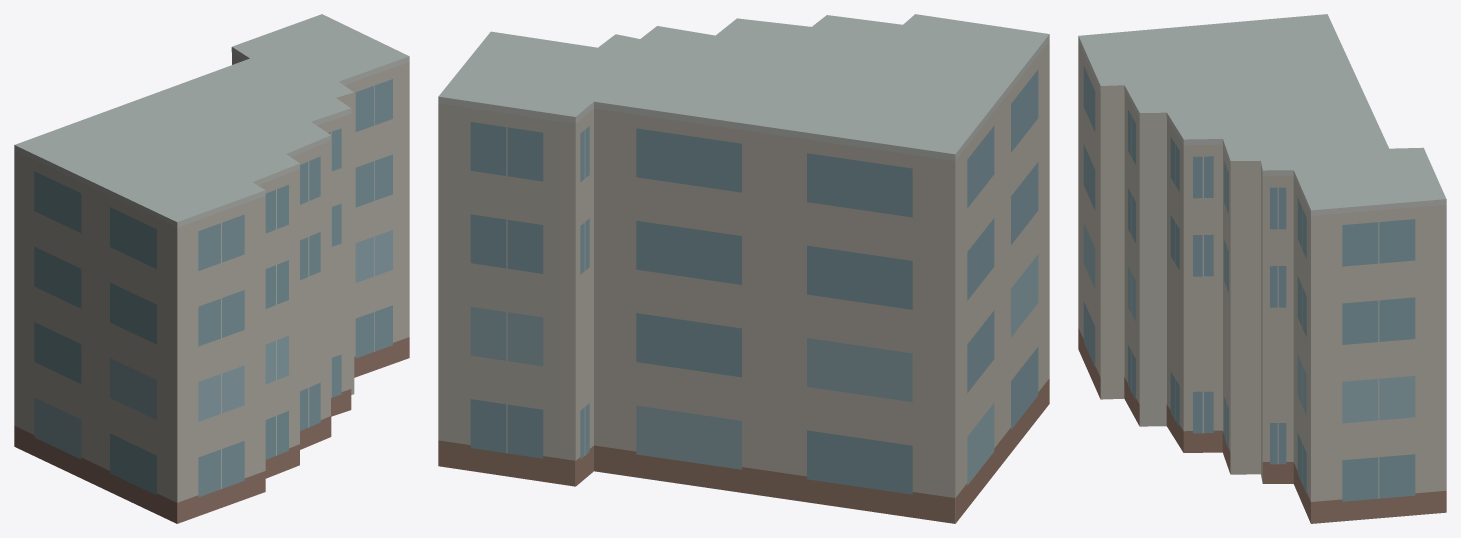
The model's file is survey-upis-32631917.glb.
The picture shows the model from 3 angles, left to right: view 1: azimuth 30°, elevation 25°; view 2: azimuth 150°, elevation 25°; view 3: azimuth 270°, elevation 25°; orthographic projection. The views are drawn at different scales.
Parts seen in each view (by area): view 1: survey-upis-32631917.tmp; view 2: survey-upis-32631917.tmp; view 3: survey-upis-32631917.tmp.
Boxes of the visible parts, x1=… form: survey-upis-32631917.tmp: x1=14, y1=14, x2=409, y2=523; survey-upis-32631917.tmp: x1=438, y1=14, x2=1049, y2=523; survey-upis-32631917.tmp: x1=1078, y1=14, x2=1446, y2=523.
Bounding box in the file's own units: 18.01 × 13.4 × 14.27.
